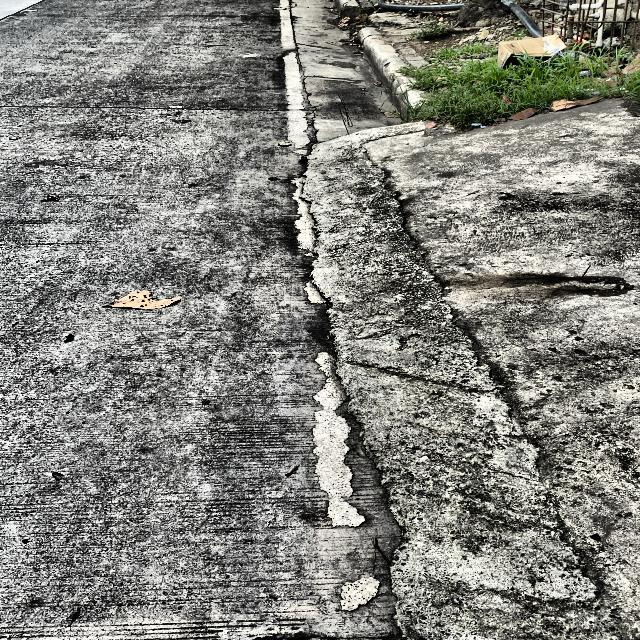no_or_faded_road_markings: (313, 353, 365, 528), (279, 0, 314, 152), (340, 559, 381, 611), (293, 177, 315, 260), (305, 277, 324, 305)
